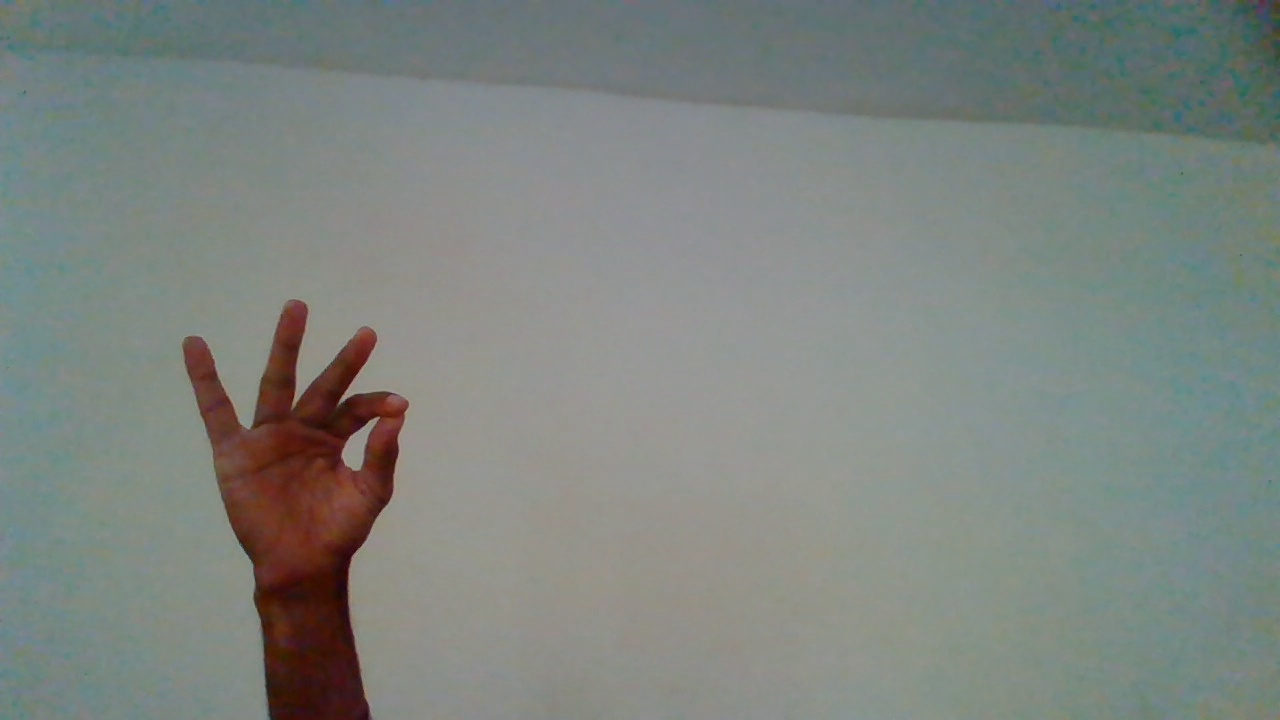le: (180, 300, 408, 705)
